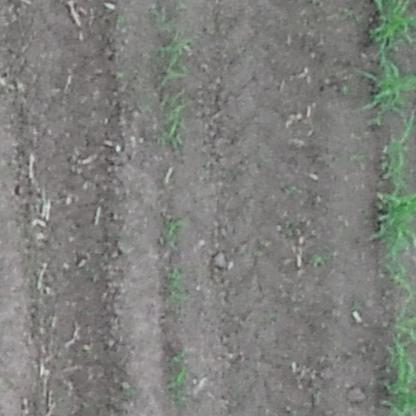corn: (378, 126, 415, 296), (368, 1, 409, 122), (380, 302, 416, 413), (156, 25, 196, 88), (152, 93, 187, 149), (162, 365, 191, 402)
